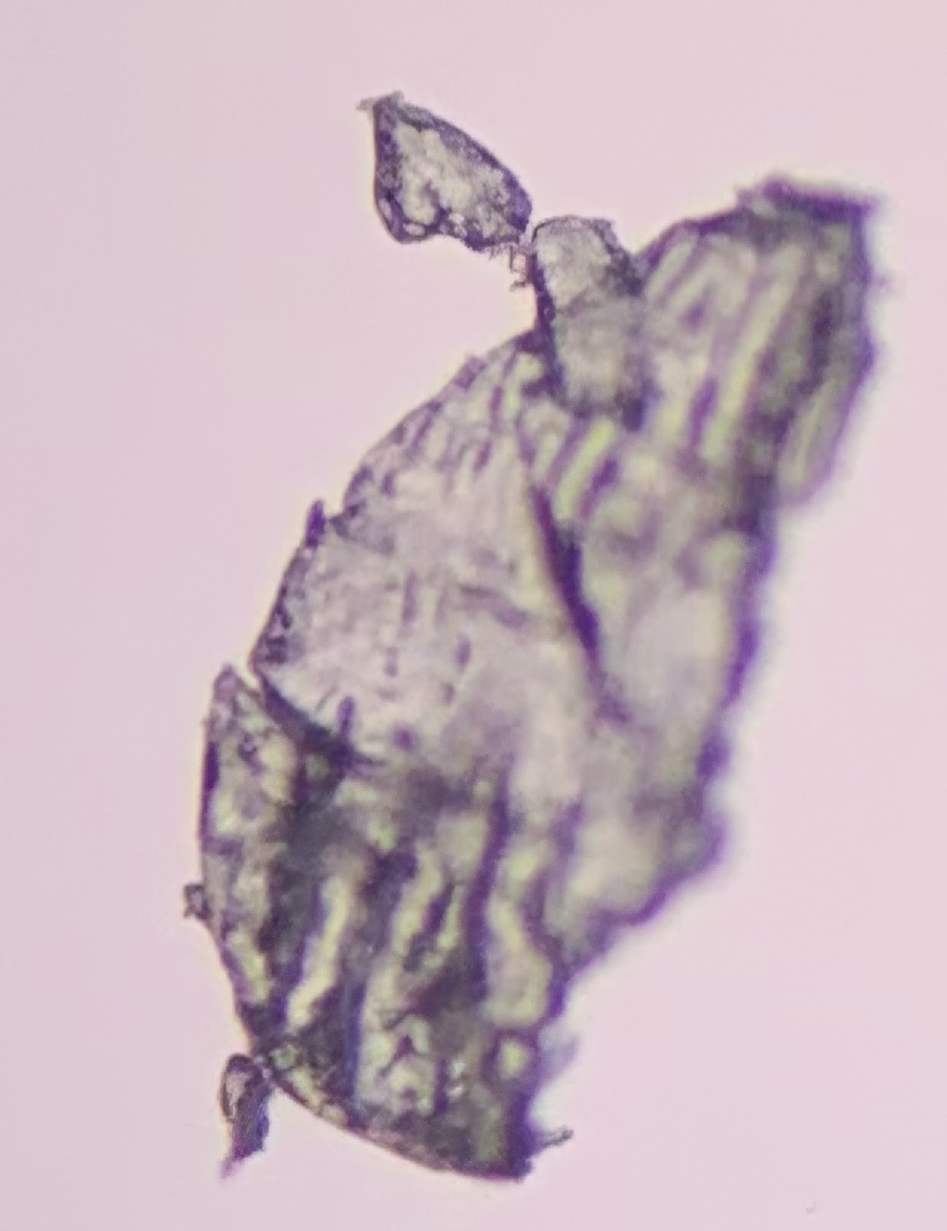microplastic: (182, 94, 894, 1184)
